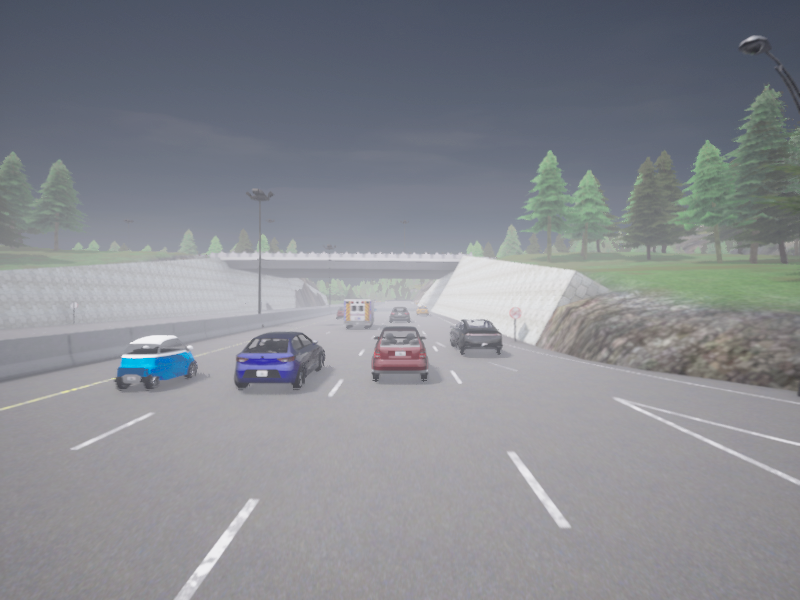vehicle: (234, 331, 324, 388), (115, 335, 196, 389), (372, 326, 427, 380), (449, 319, 502, 354), (344, 300, 376, 327), (390, 307, 409, 321), (416, 305, 428, 315), (337, 307, 343, 318)
